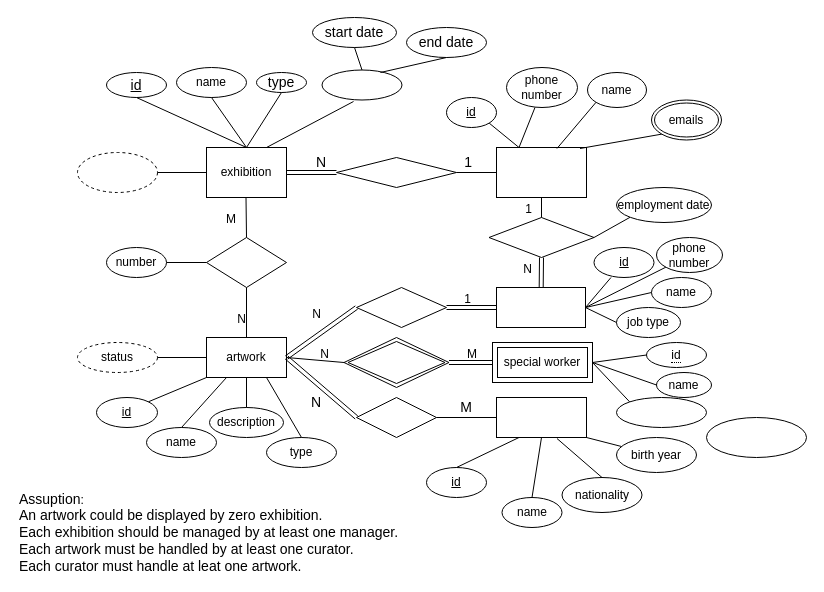
The diagram is 824 pixels wide and 592 high, and some of its shapes have lost their labels. Here are the shapes that lost their labels. From the top down, the centre of each, then its label:
(x=361, y=84): duration
(x=117, y=172): number of artworks
(x=396, y=172): management
(x=541, y=172): manger
(x=541, y=237): employment
(x=246, y=262): display
(x=401, y=307): handle
(x=541, y=307): curator
(x=396, y=362): transportation
(x=396, y=417): create
(x=541, y=417): artist
(x=661, y=412): job description
(x=756, y=437): Attribute
